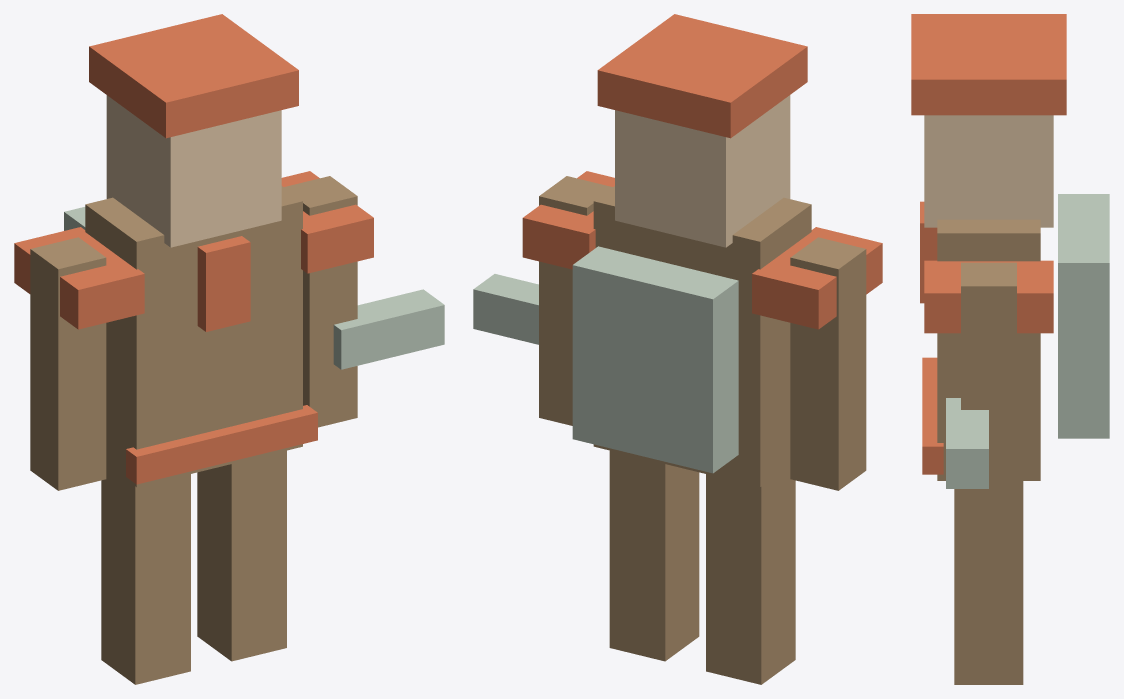
The model's file is 07_ossa_wayfare_medic_near_compass.glb.
3 renders of one model, left to right at view 1: azimuth 30°, elevation 25°; view 2: azimuth 150°, elevation 25°; view 3: azimuth 270°, elevation 25°, orthographic.
Visible parts, largest first — view 1: Ossa Wayfare, Medic near Compass; view 2: Ossa Wayfare, Medic near Compass; view 3: Ossa Wayfare, Medic near Compass.
Part boxes in pixels (x1,y1,x2,y2): Ossa Wayfare, Medic near Compass: (14,14,444,684); Ossa Wayfare, Medic near Compass: (473,14,882,684); Ossa Wayfare, Medic near Compass: (911,14,1109,684).
Size of the model in its own units: 0.963 by 1.45 by 0.4322.
